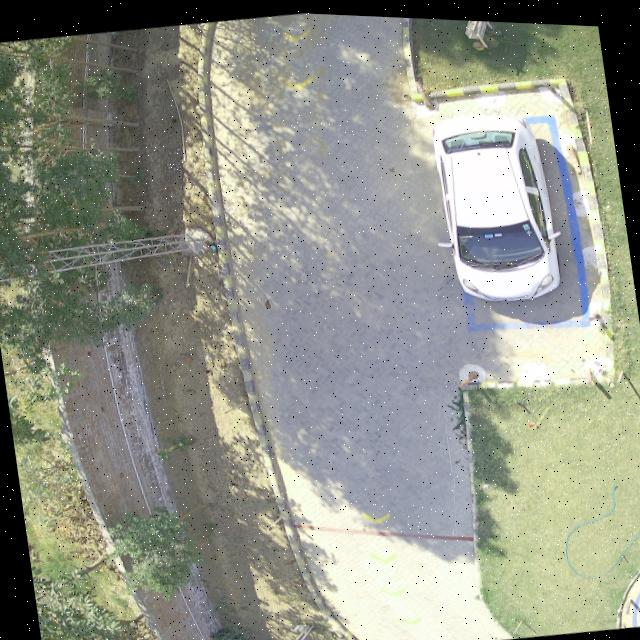car: (433, 108, 560, 296)
